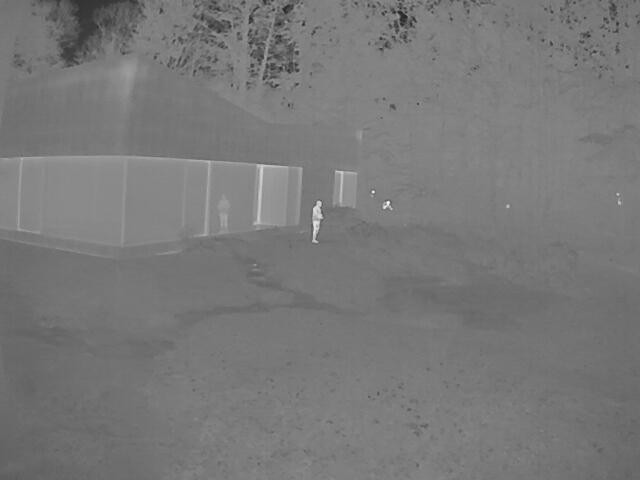person: (215, 192, 229, 235), (310, 199, 323, 243)
